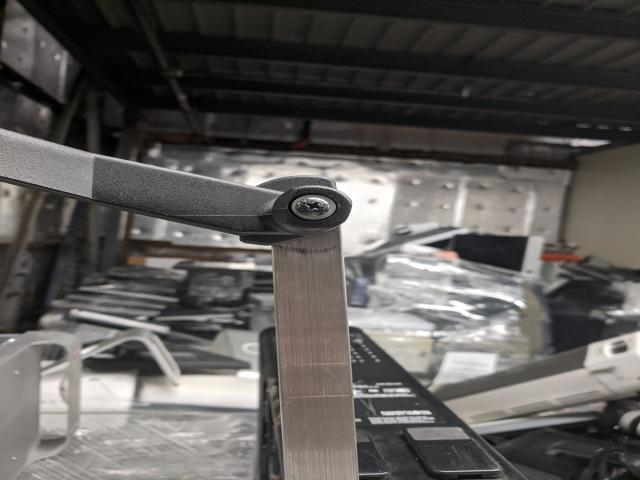CRS: (294, 195, 336, 219)
